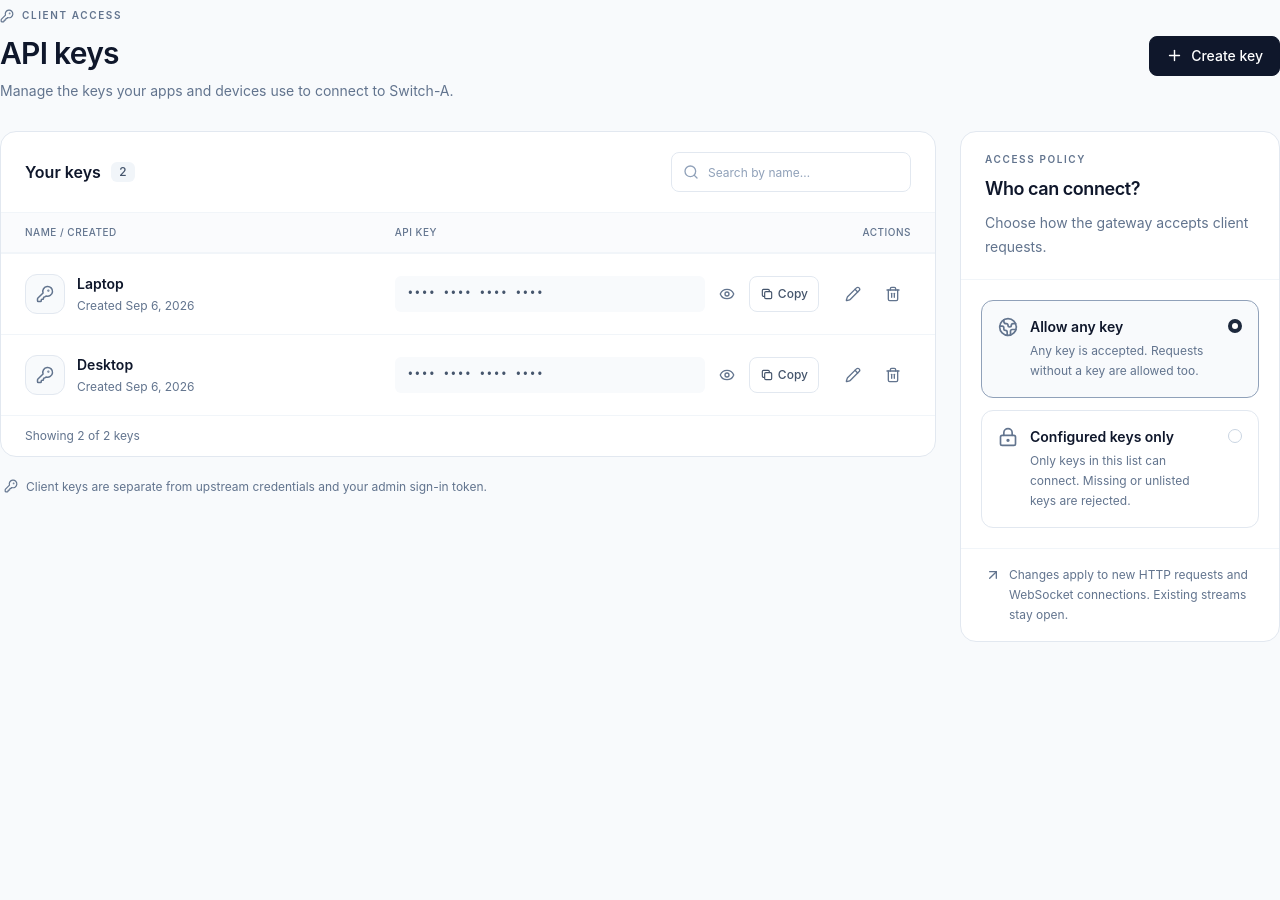
Test case: client API key management › searches names case-insensitively, clears no results and targets the correct key
Step 1. Type " LAP " into the search field named "Search keys by name" → (791, 172), box [671,152,911,192]
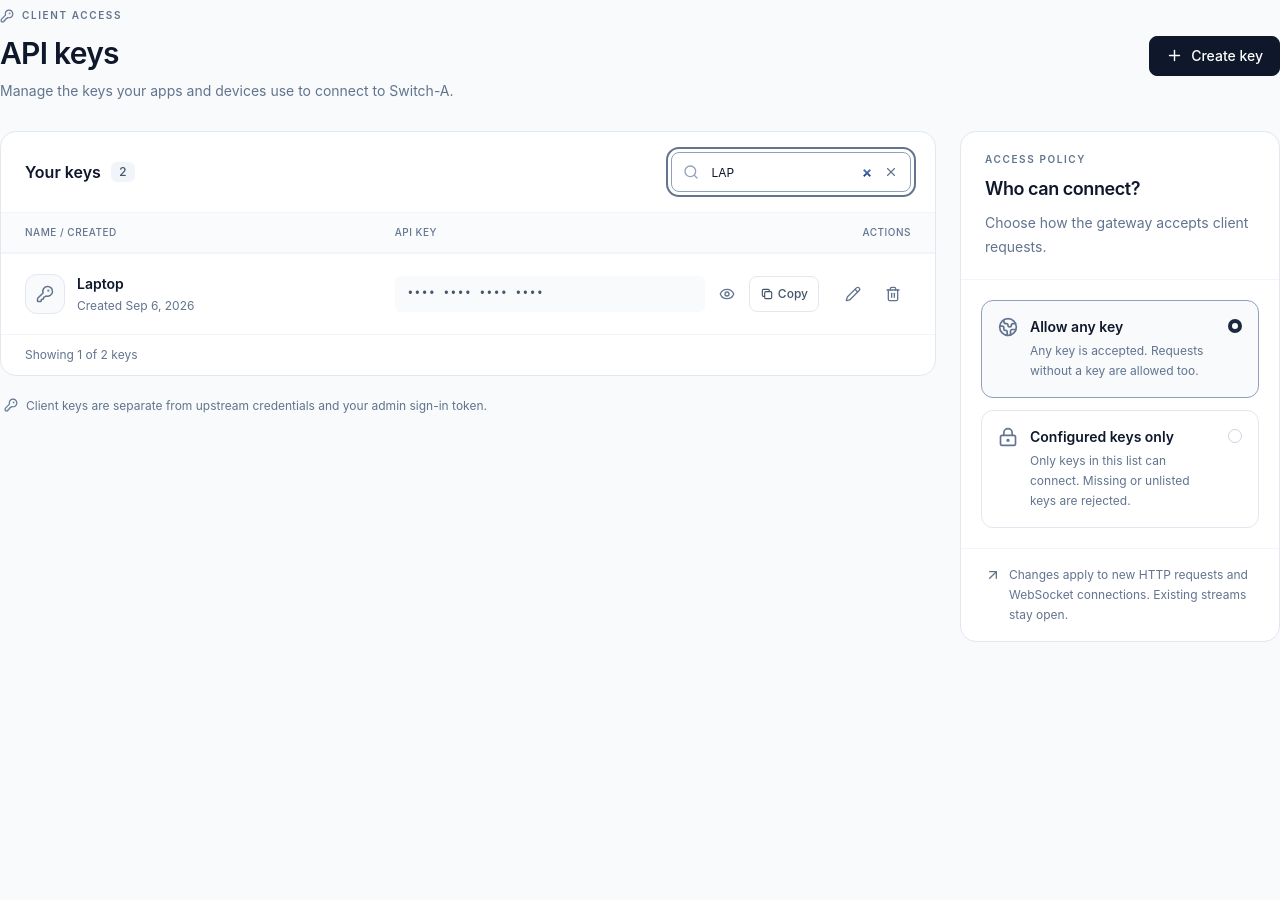
Expected: the heading "Laptop" is shown, [77,275,124,292]
Now the heading "Desktop" is gone
Now the text "Showing 1 of 2 keys" is shown, box [1,334,935,375]
Step 2. Replace the text in the search field named "Search keys by name" with "sk-client-secret" → (791, 172), box [671,152,911,192]
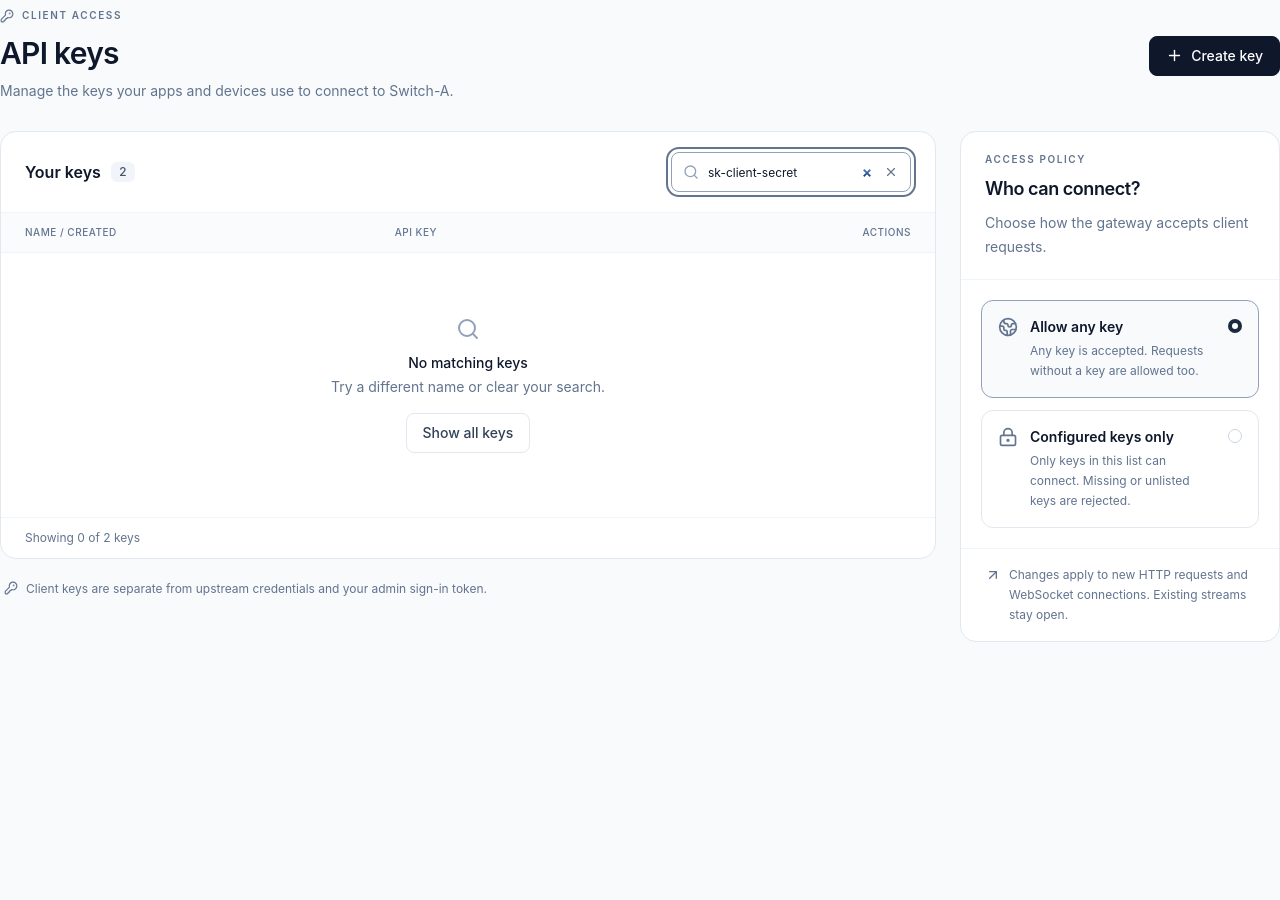
Now the text "No matching keys" is shown, box [408,354,528,371]
Step 3. Click the button "Show all keys" → (468, 433), box [406,413,530,453]
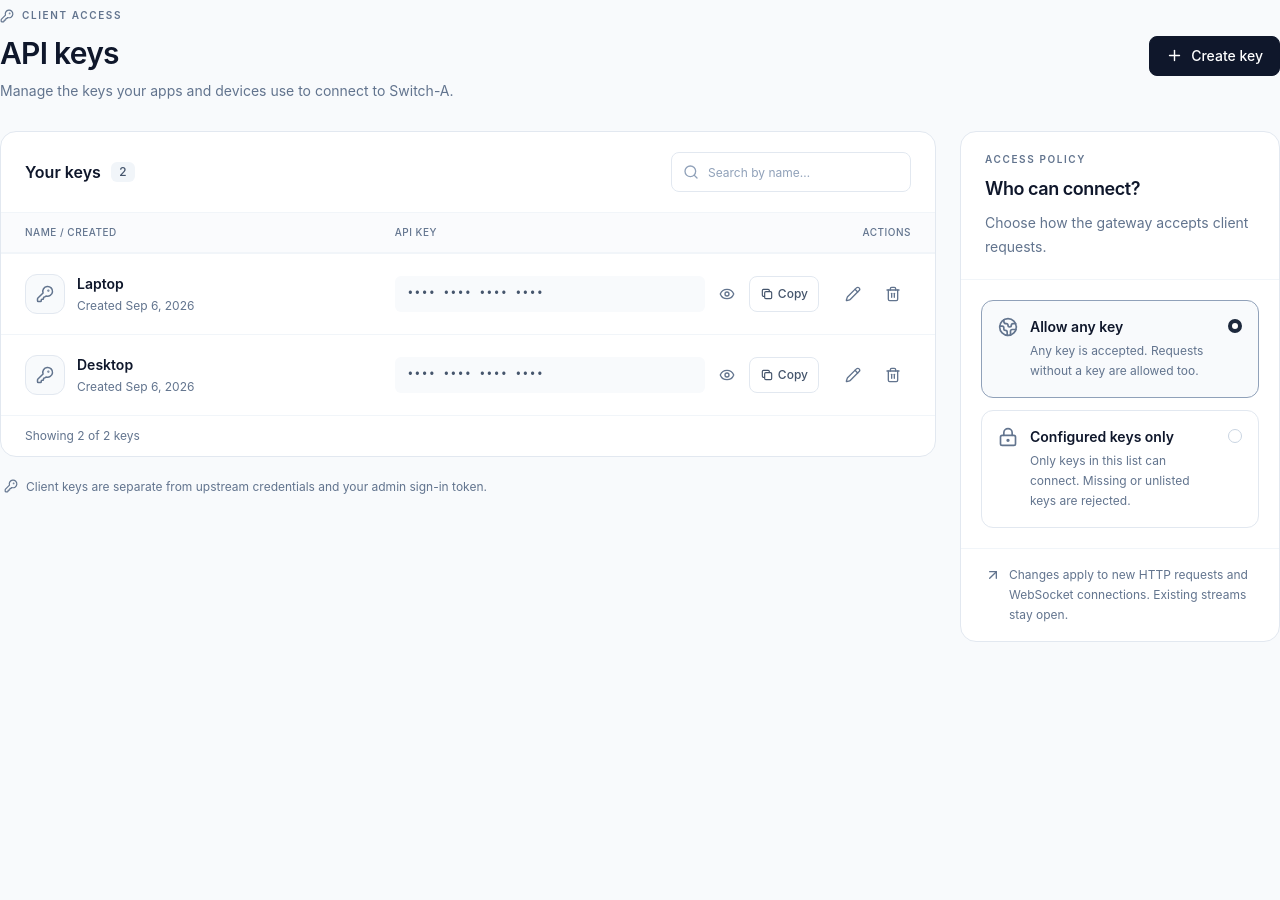
Now the number of list items is 2, box [1,253,935,334]; [1,334,935,415]
Step 4. Click the button named "Delete Desktop" → (893, 375), box [875,357,911,393]
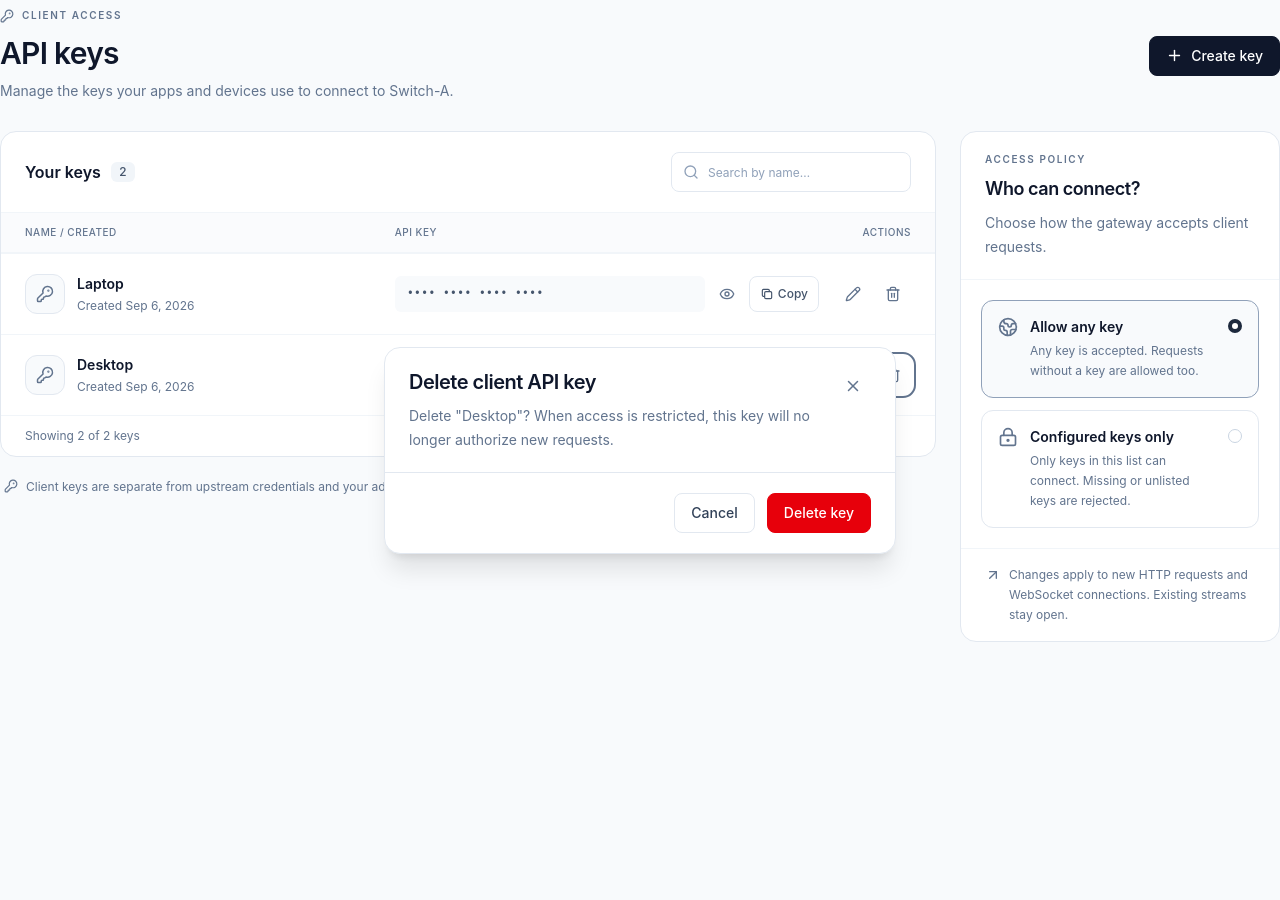
Step 5. Click the button "Delete key" → (819, 512), box [767,492,871,532]
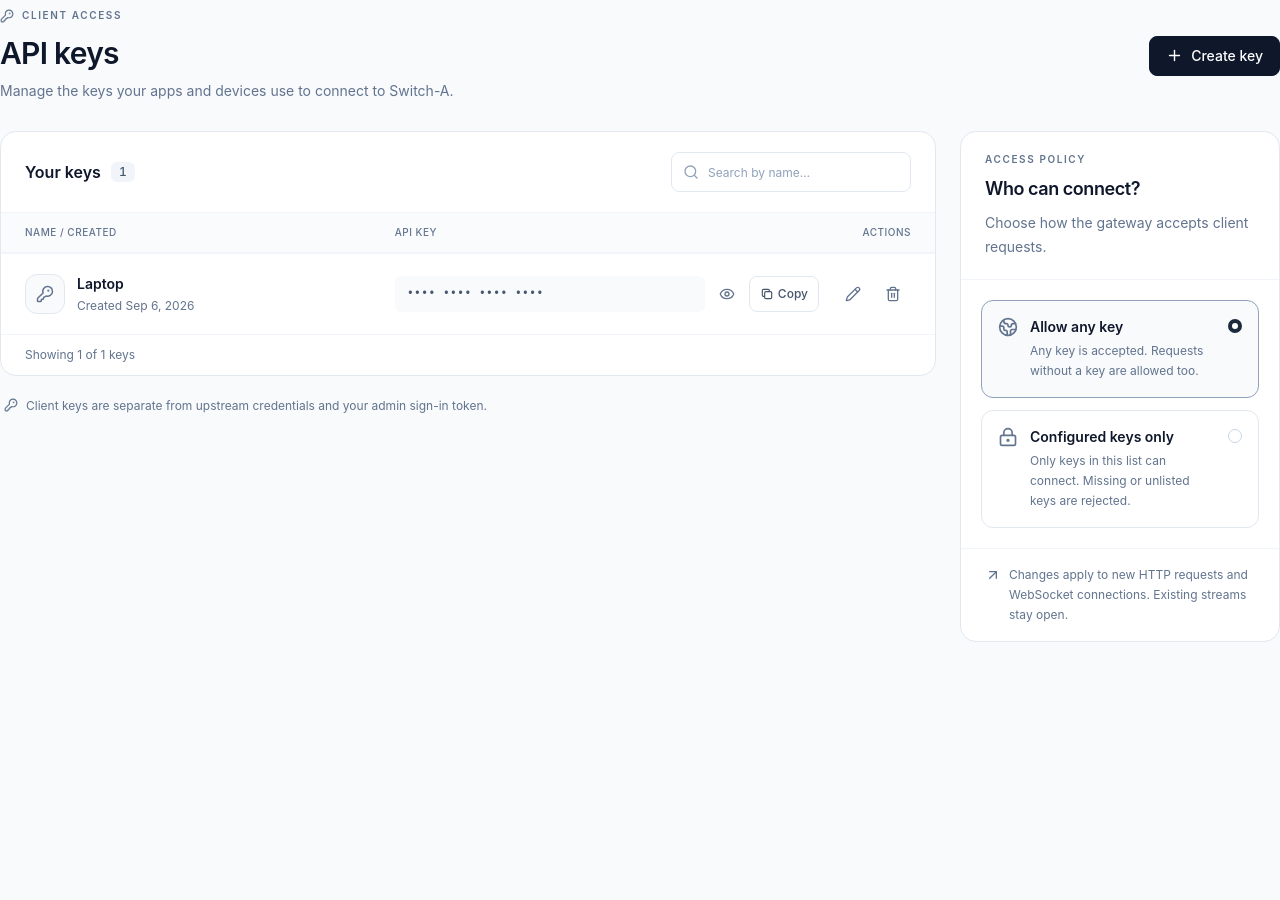
Now the text "Showing 1 of 1 keys" is shown, box [1,334,935,375]
